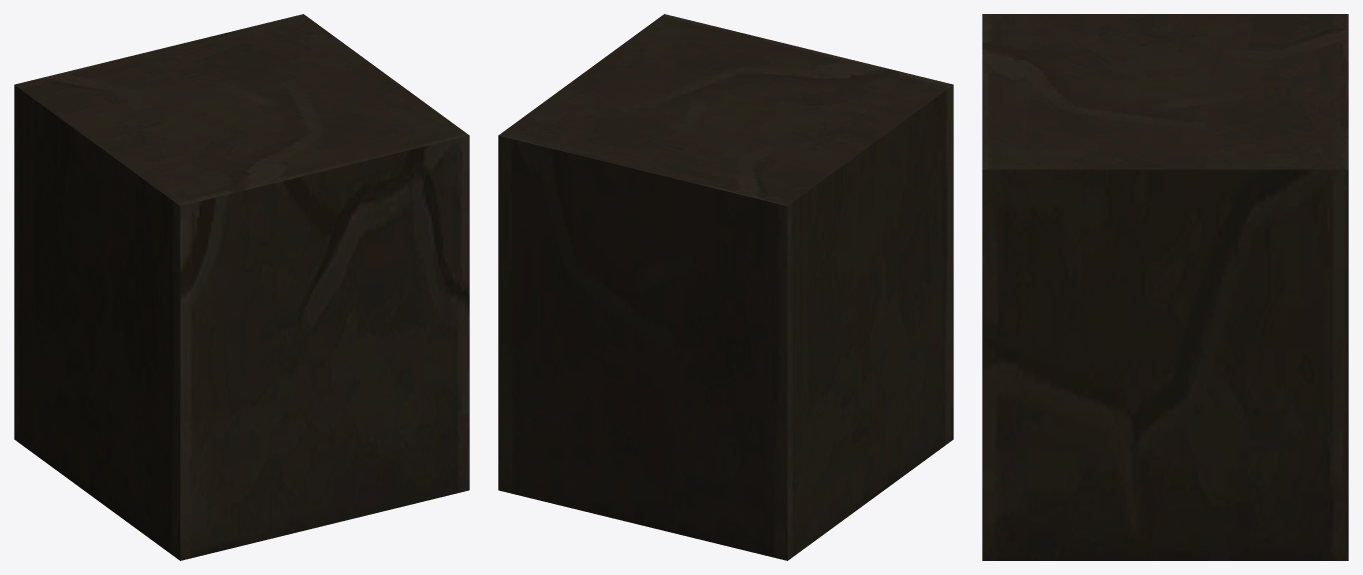
The model's file is fortress_quarter_convex_03.fbx.
3 views of the same model, side by side, from view 1: azimuth 30°, elevation 25°; view 2: azimuth 150°, elevation 25°; view 3: azimuth 270°, elevation 25° (orthographic). The views are drawn at different scales.
Visible parts, largest first — view 1: fortress_tileset/wall_01_mat; view 2: fortress_tileset/wall_01_mat; view 3: fortress_tileset/wall_01_mat.
Boxes of the visible parts, x1=… form: fortress_tileset/wall_01_mat: x1=14, y1=14, x2=469, y2=560; fortress_tileset/wall_01_mat: x1=498, y1=14, x2=953, y2=560; fortress_tileset/wall_01_mat: x1=982, y1=14, x2=1348, y2=560.
Bounding box in the file's own units: 1.17 × 1.38 × 1.17.
